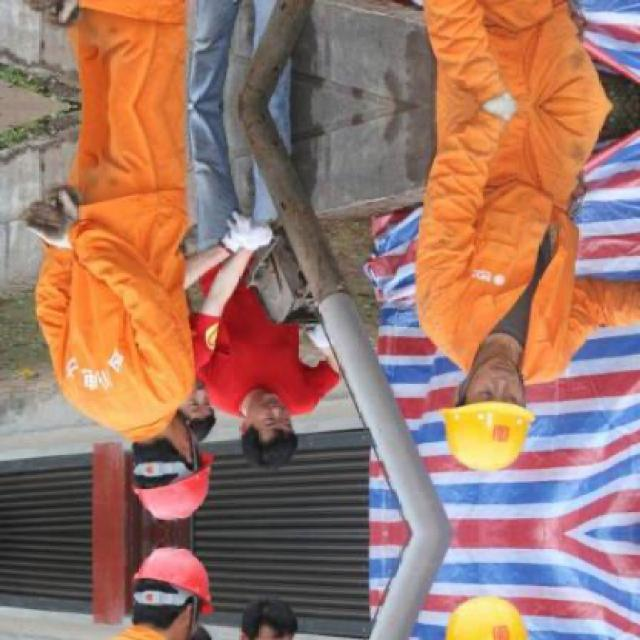con casco: (422, 343, 560, 493), (102, 403, 226, 518)
sin casco: (222, 382, 314, 472)
